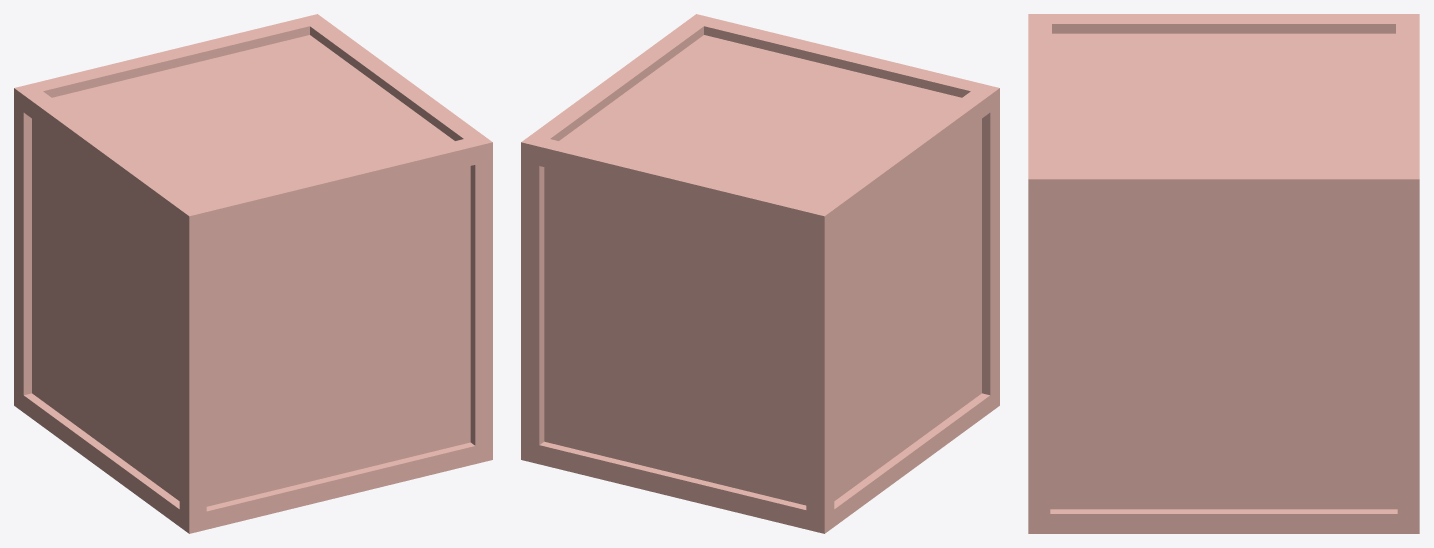
File: Mega_Asset_s_Pack_Cube_293.FBX
The picture shows the model from 3 angles, left to right: view 1: azimuth 30°, elevation 25°; view 2: azimuth 150°, elevation 25°; view 3: azimuth 270°, elevation 25°; orthographic projection. The views are drawn at different scales.
Parts seen in each view (by area): view 1: Mega_Asset_s_Pack_Cube_293; view 2: Mega_Asset_s_Pack_Cube_293; view 3: Mega_Asset_s_Pack_Cube_293.
Boxes of the visible parts, box(x1,y1,x2,y2) form: Mega_Asset_s_Pack_Cube_293: box(14, 14, 492, 533); Mega_Asset_s_Pack_Cube_293: box(521, 14, 999, 533); Mega_Asset_s_Pack_Cube_293: box(1028, 14, 1419, 533).
Size of what is drawn, in the model's own units: 129 by 129 by 129.
